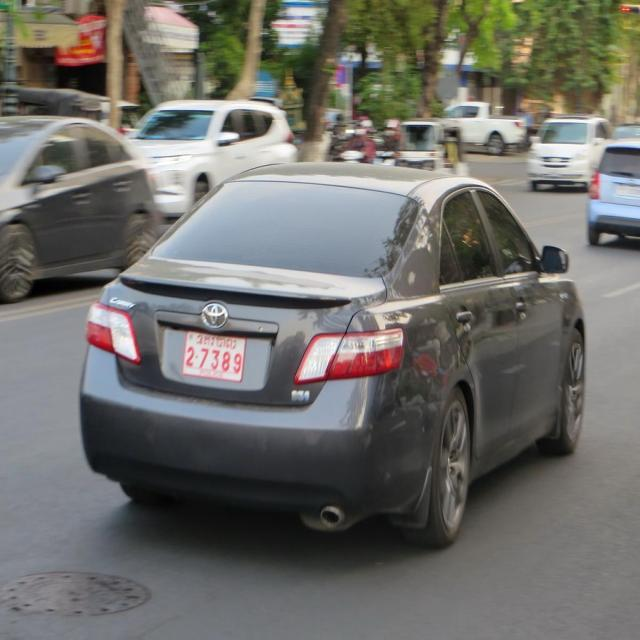Police: (195, 334, 238, 350)
